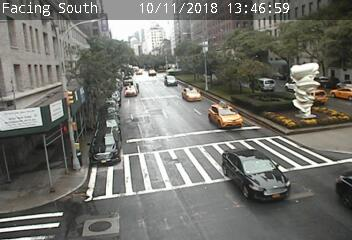car: (222, 149, 291, 201), (90, 127, 120, 164), (208, 103, 243, 130), (297, 90, 328, 105), (330, 85, 352, 101), (250, 78, 276, 91), (284, 79, 309, 91), (182, 87, 200, 101), (125, 85, 137, 97), (164, 75, 177, 85)
